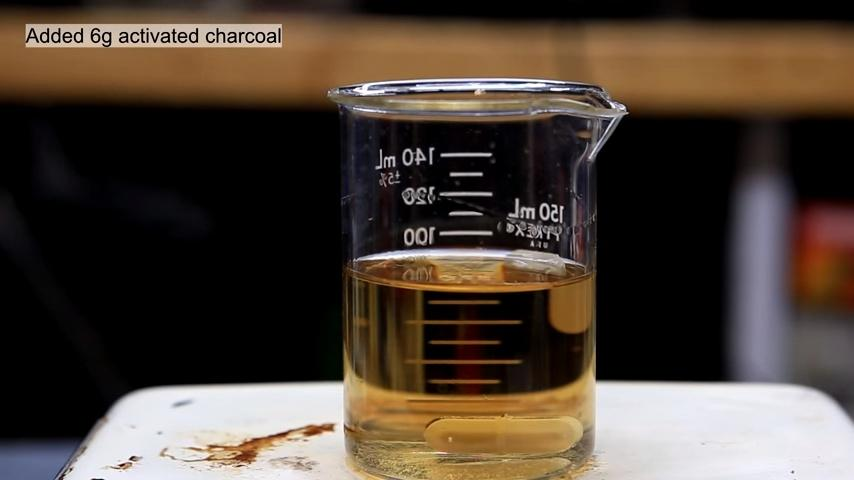Beaker: (323, 69, 630, 474)
